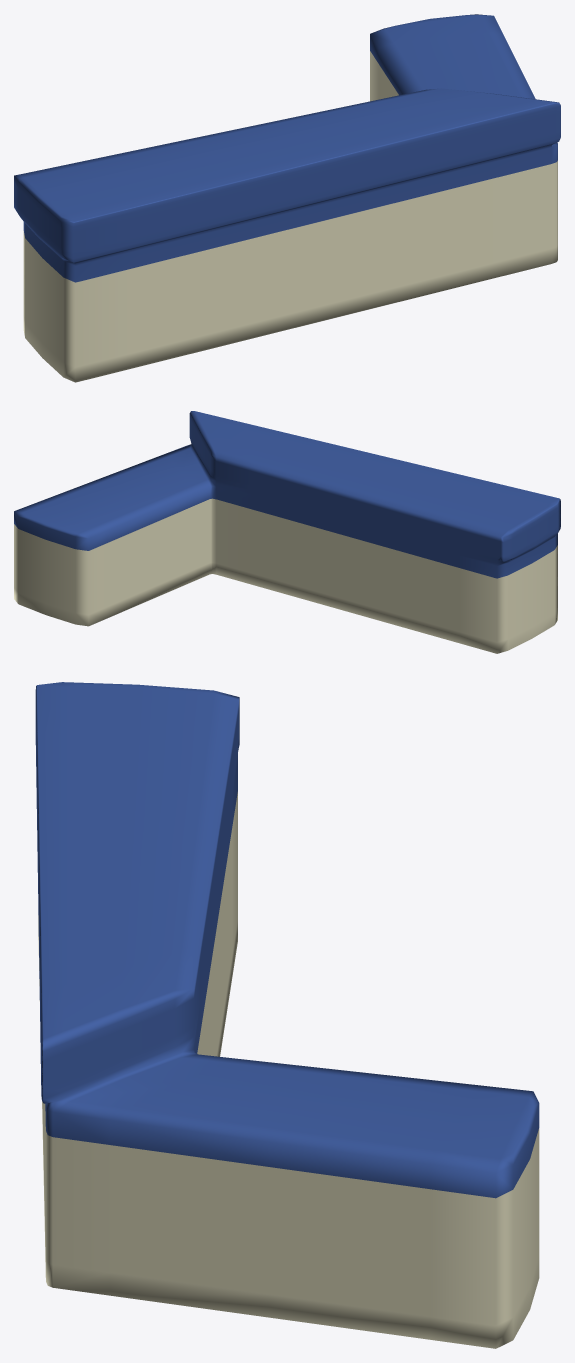
File: nurseDesk.fbx
The picture shows the model from 3 angles, top to bottom: view 1: azimuth 30°, elevation 25°; view 2: azimuth 150°, elevation 25°; view 3: azimuth 270°, elevation 25°; orthographic projection. The views are drawn at different scales.
Parts seen in each view (by area): view 1: Nurses_Desk; view 2: Nurses_Desk; view 3: Nurses_Desk.
Part boxes in pixels (<box>): Nurses_Desk: <box>14,14,560,382</box>; Nurses_Desk: <box>14,411,560,653</box>; Nurses_Desk: <box>35,682,539,1348</box>.
Bounding box in the file's own units: 4.96 × 1.34 × 2.48.
